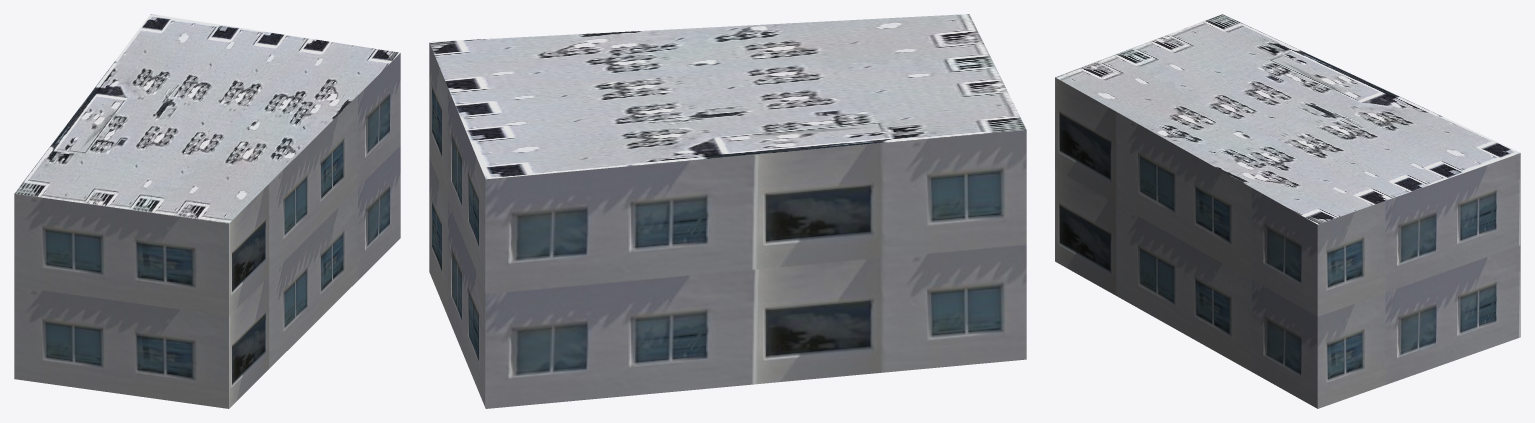
The model's file is ResTex__2755.fbx.
3 renders of one model, left to right at view 1: azimuth 30°, elevation 25°; view 2: azimuth 150°, elevation 25°; view 3: azimuth 270°, elevation 25°, orthographic. The views are drawn at different scales.
Parts seen in each view (by area): view 1: CityEngineMaterial_10_m, CityEngineMaterial_2_m; view 2: CityEngineMaterial_10_m, CityEngineMaterial_2_m; view 3: CityEngineMaterial_10_m, CityEngineMaterial_2_m.
Boxes of the visible parts, box(x1,y1,x2,y2) form: CityEngineMaterial_10_m: box(14, 53, 400, 408); CityEngineMaterial_2_m: box(14, 14, 400, 223); CityEngineMaterial_10_m: box(429, 43, 1026, 408); CityEngineMaterial_2_m: box(429, 14, 1026, 179); CityEngineMaterial_10_m: box(1055, 77, 1520, 408); CityEngineMaterial_2_m: box(1055, 14, 1520, 224).
Size of the model in its own units: 14.72 by 6 by 13.75.
Materials: 2 (2 with a texture image).
